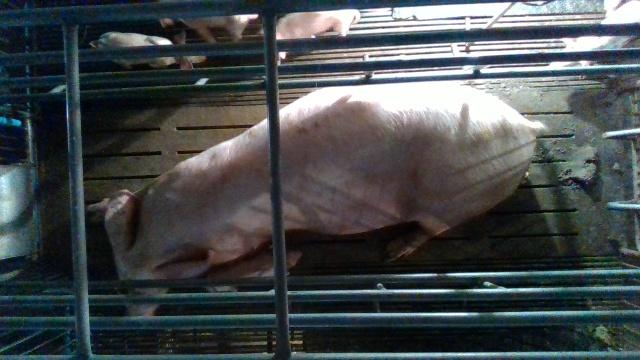piglet: (89, 32, 205, 71), (277, 8, 360, 59), (160, 18, 259, 41)
sow-sit: (81, 86, 544, 313)
